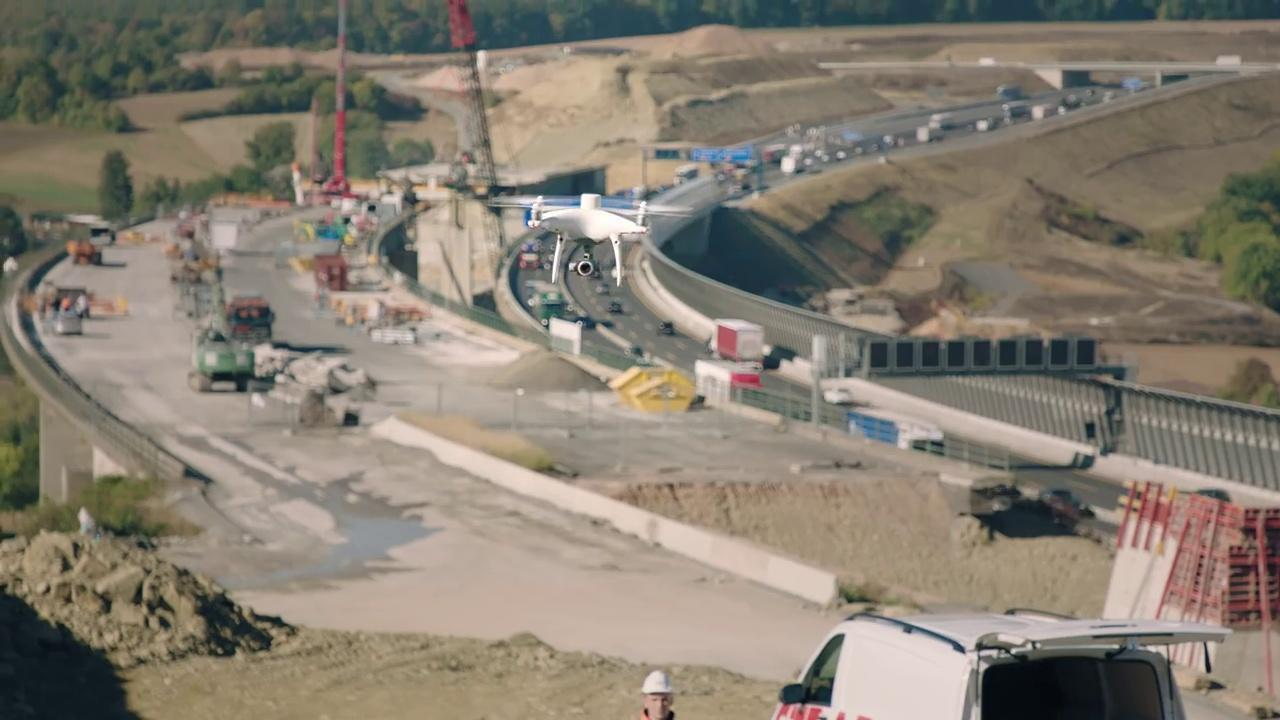drone: (487, 189, 694, 285)
